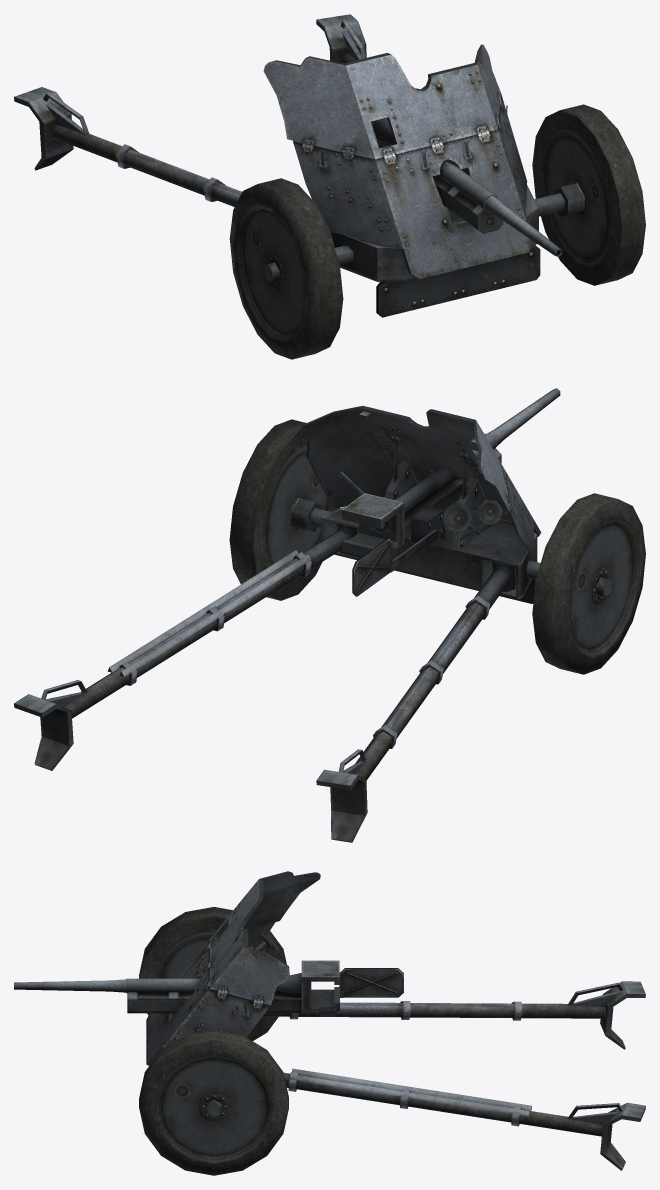
Rendered from german_pak36.glb.
The picture shows the model from 3 angles, top to bottom: view 1: azimuth 30°, elevation 25°; view 2: azimuth 150°, elevation 25°; view 3: azimuth 270°, elevation 25°; orthographic projection. The views are drawn at different scales.
Visible parts, largest first — view 1: mow_turret, mow_wheell, mow_wheelr, mow_body, mow_standl, mow_gun, mow_standr, mow_gun_rot; view 2: mow_turret, mow_wheell, mow_standr, mow_wheelr, mow_standl, mow_body, mow_gun, mow_gun_rot; view 3: mow_wheelr, mow_turret, mow_standr, mow_standl, mow_gun, mow_wheell, mow_gun_rot.
Boxes of the visible parts, x1,y1,x2,y2 form: mow_turret: (263, 44, 533, 279); mow_wheell: (229, 178, 343, 359); mow_wheelr: (532, 104, 645, 285); mow_body: (330, 183, 584, 317); mow_standl: (14, 87, 241, 206); mow_gun: (371, 118, 561, 256); mow_standr: (316, 14, 454, 164); mow_gun_rot: (377, 139, 503, 233); mow_turret: (298, 405, 541, 557); mow_wheell: (532, 493, 645, 674); mow_standr: (14, 523, 356, 770); mow_wheelr: (229, 419, 340, 600); mow_standl: (316, 561, 515, 842); mow_body: (291, 497, 540, 603); mow_gun: (340, 388, 560, 559); mow_gun_rot: (352, 448, 501, 596); mow_wheelr: (139, 1030, 288, 1175); mow_turret: (146, 871, 320, 1065); mow_standr: (283, 1068, 645, 1170); mow_standl: (263, 981, 645, 1049); mow_gun: (14, 960, 339, 1016); mow_wheell: (139, 907, 286, 1040); mow_gun_rot: (127, 968, 403, 1013).
Bounding box in the file's own units: 1.86 × 1.28 × 3.59.
1 material, 1 textured.
